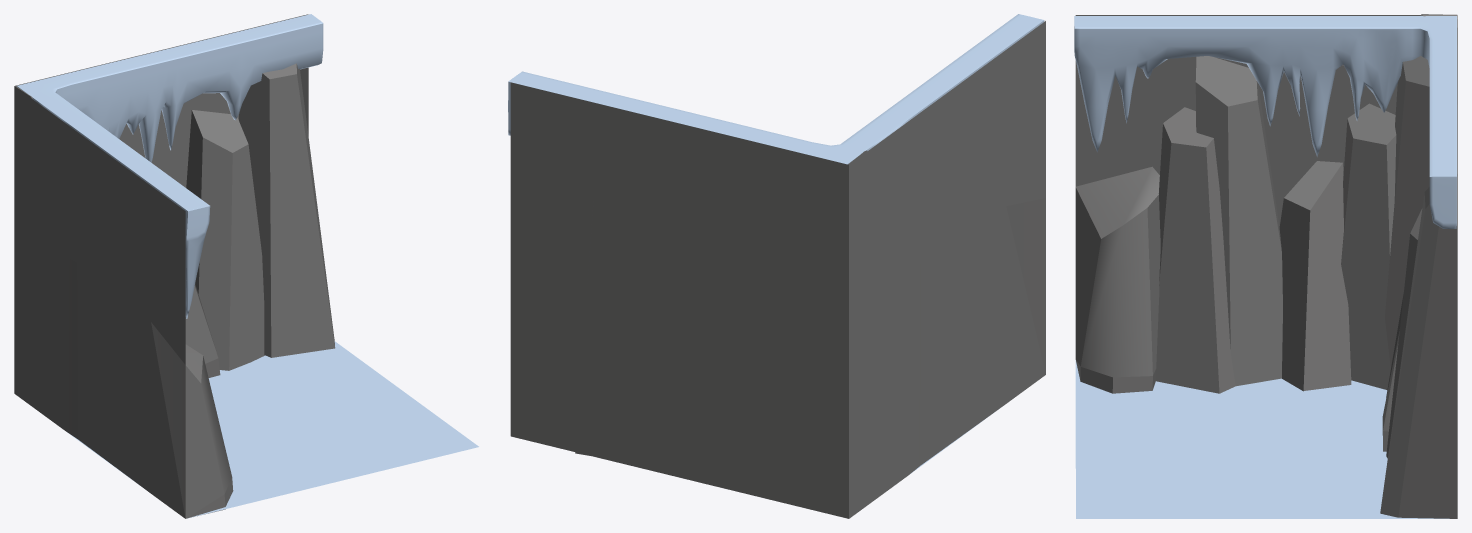
The picture shows the model from 3 angles, left to right: view 1: azimuth 30°, elevation 25°; view 2: azimuth 150°, elevation 25°; view 3: azimuth 270°, elevation 25°; orthographic projection. The views are drawn at different scales.
Parts seen in each view (by area): view 1: C_in; view 2: C_in; view 3: C_in.
Part boxes in pixels (bbox=[...]): C_in: bbox=[14, 14, 478, 518]; C_in: bbox=[508, 14, 1045, 518]; C_in: bbox=[1074, 14, 1457, 518].
Bounding box in the file's own units: 1.01 × 1.01 × 1.01.
